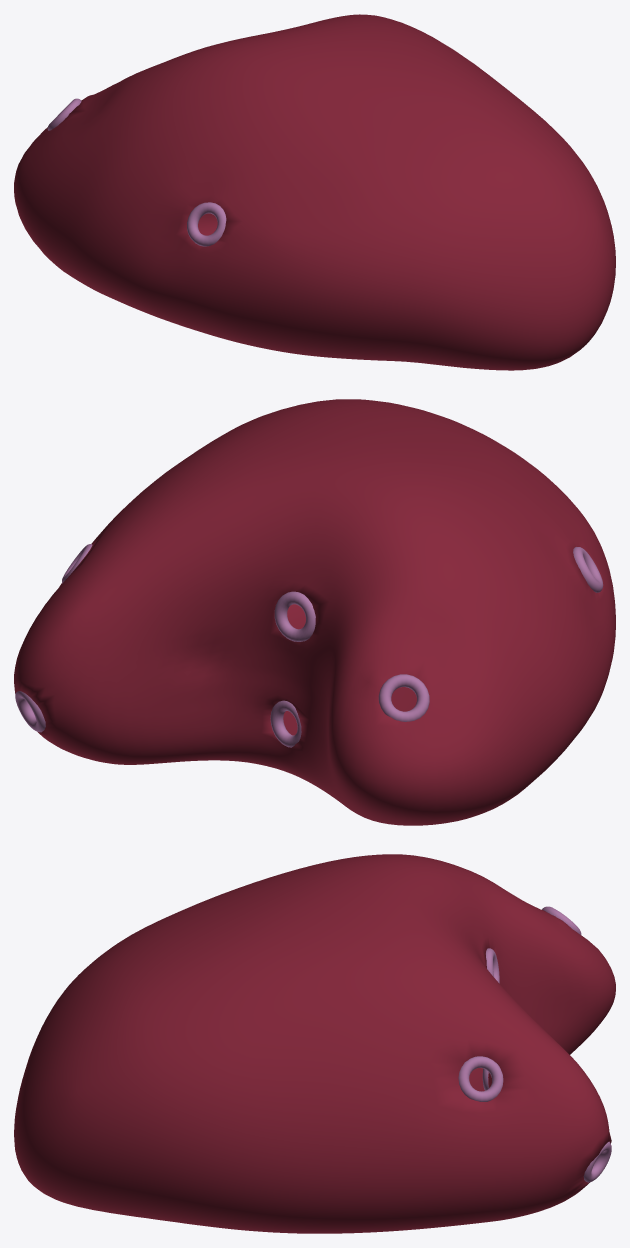
The model's file is CC-HeartWall.fbx.
3 renders of one model, top to bottom at view 1: azimuth 30°, elevation 25°; view 2: azimuth 150°, elevation 25°; view 3: azimuth 270°, elevation 25°, orthographic. The views are drawn at different scales.
Visible parts, largest first — view 1: HeartWall.001; view 2: HeartWall.001; view 3: HeartWall.001.
Part boxes in pixels (x1,y1,x2,y2): HeartWall.001: (14, 14, 615, 370); HeartWall.001: (14, 399, 615, 825); HeartWall.001: (14, 854, 615, 1233).
Size of the model in its own units: 4422 by 2451 by 5010.
